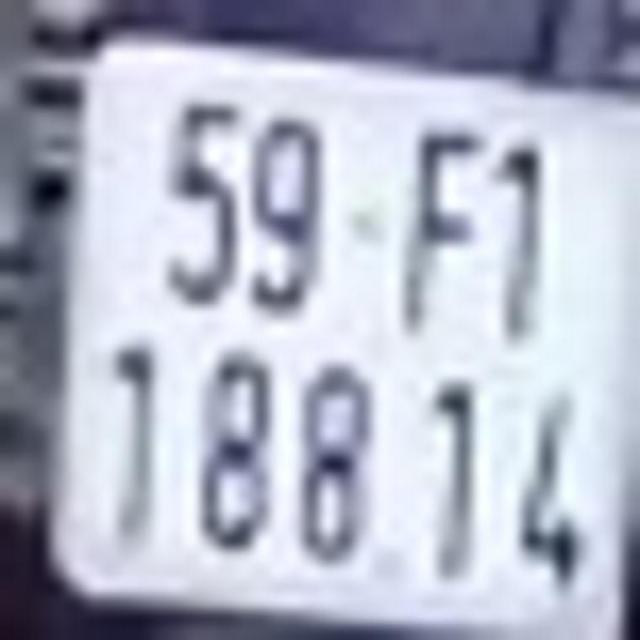1: (424, 380, 482, 583), (500, 137, 551, 352), (111, 340, 156, 544)
4: (517, 384, 587, 592)
5: (158, 96, 238, 316)
8: (192, 346, 276, 553), (304, 358, 374, 572)
9: (242, 114, 324, 317)
F: (396, 122, 486, 344)
